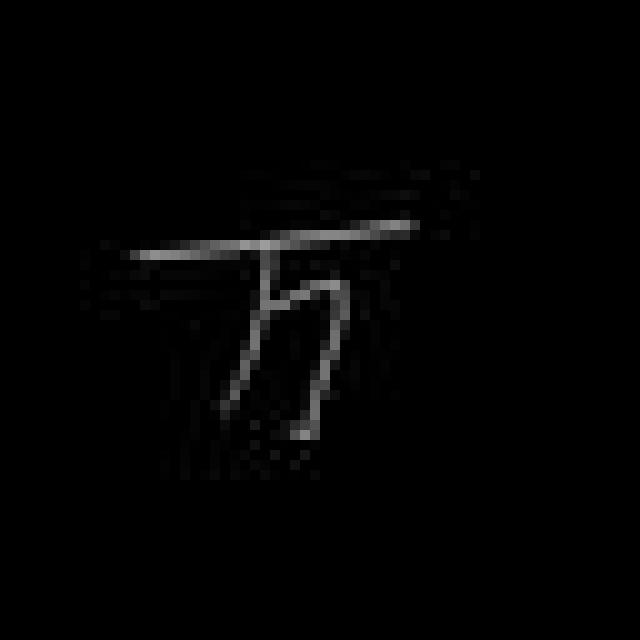10000 -a ten thousand-: (122, 210, 425, 458)
